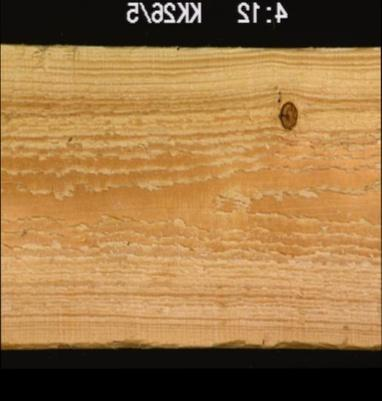dry_knot: (276, 98, 299, 130)
wave: (0, 329, 380, 347)
